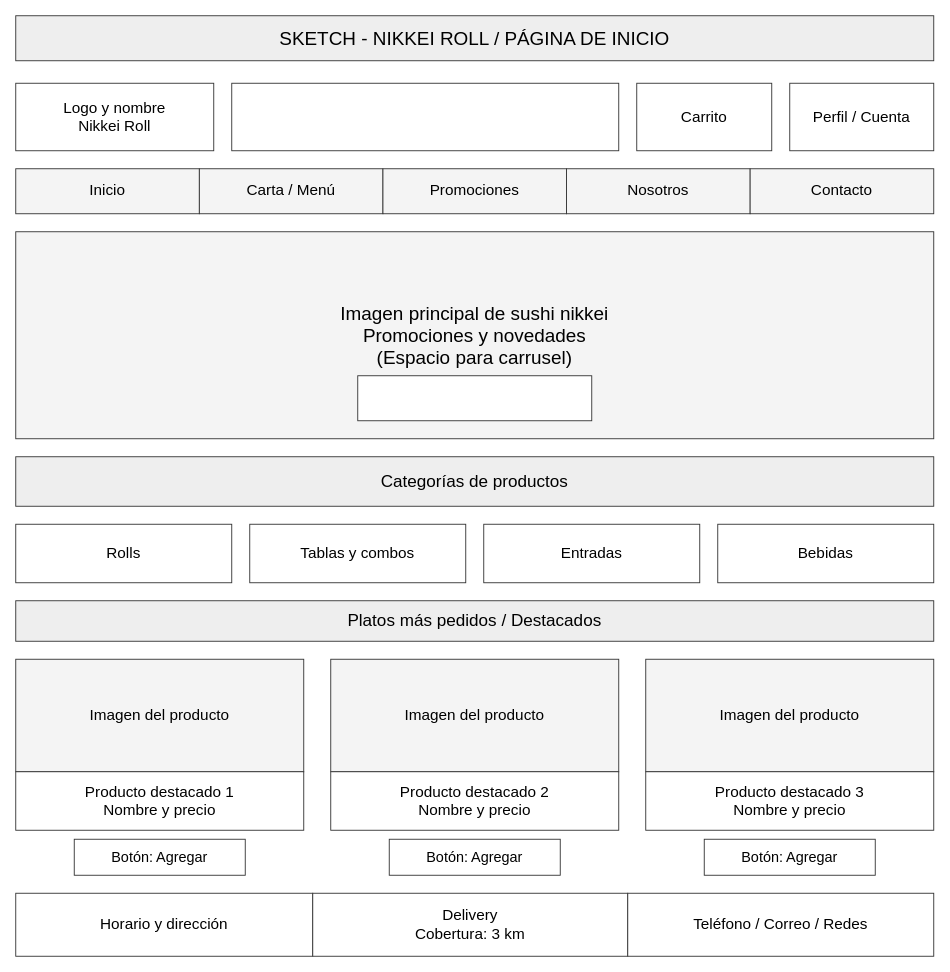
Image size: 950x972. Some labels were removed from this diagram. Here are the shapes that lost their labels. From the top down, the centre of each, then its label:
At point (425, 116): "Buscar en la carta".
At point (474, 398): "Botón: Ver carta".
